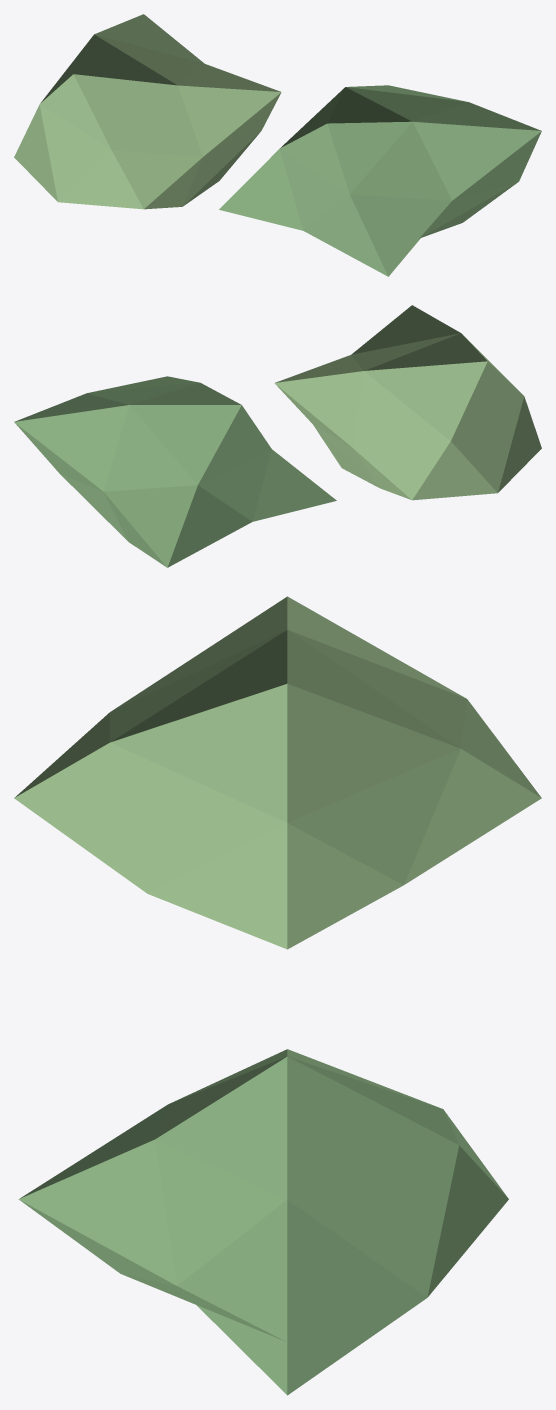
File: shrub_v30.glb
The picture shows the model from 3 angles, top to bottom: view 1: azimuth 30°, elevation 25°; view 2: azimuth 150°, elevation 25°; view 3: azimuth 270°, elevation 25°; orthographic projection. The views are drawn at different scales.
Parts seen in each view (by area): view 1: lod0; view 2: lod0; view 3: lod0.
Part boxes in pixels (x1,y1,x2,y2): lod0: (14,14,541,276); lod0: (14,305,541,567); lod0: (14,596,541,1395).
Size of what is drawn, in the model's own units: 1.08 by 0.63 by 0.5168.
